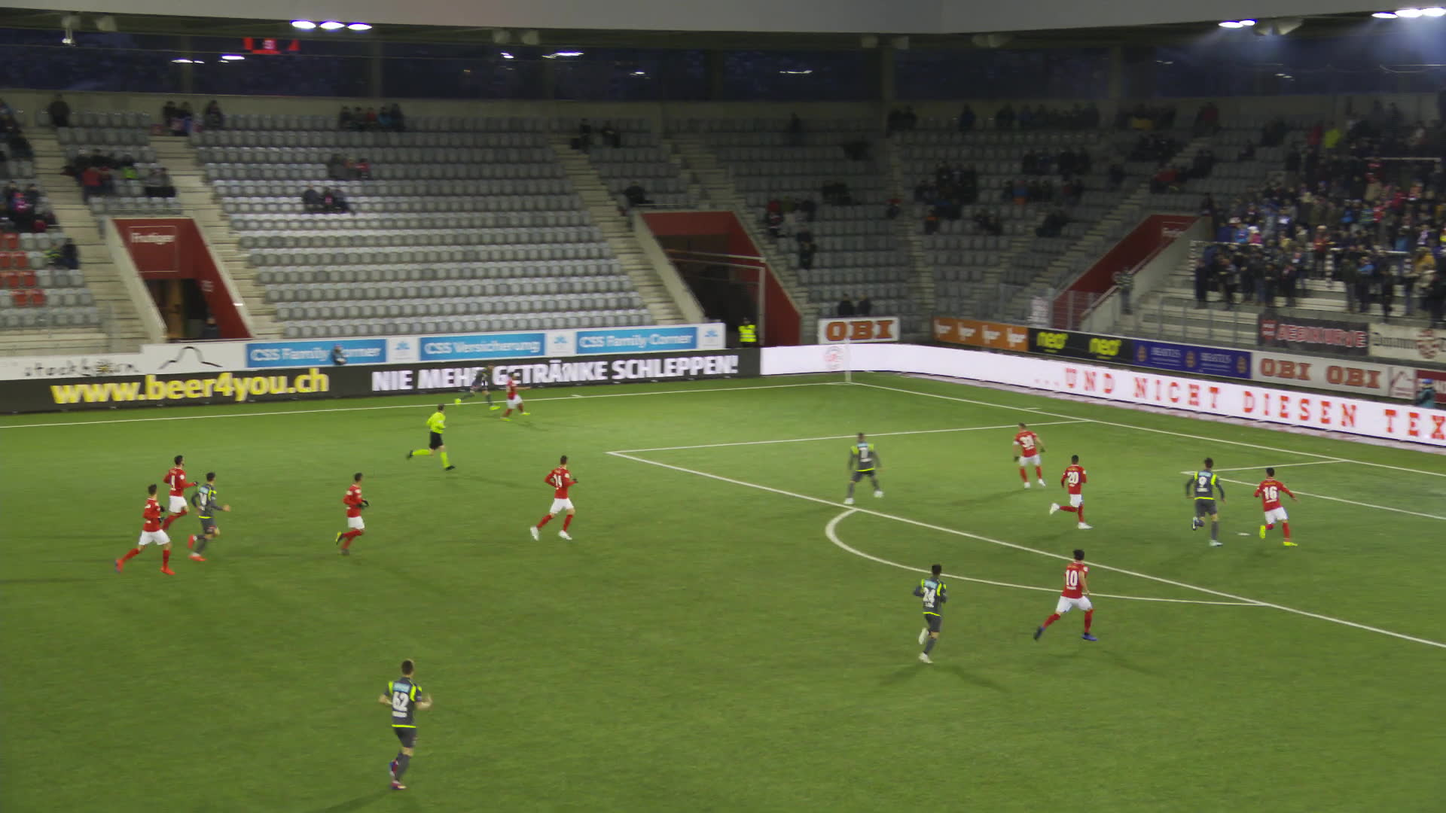ball: (500, 373, 509, 383)
player: (374, 656, 434, 789), (114, 484, 190, 577), (1038, 549, 1099, 643), (179, 468, 233, 562), (530, 455, 584, 541), (907, 561, 951, 663), (1182, 456, 1228, 549), (149, 454, 200, 532), (327, 472, 374, 555), (1252, 465, 1298, 547), (846, 427, 890, 505), (1051, 452, 1087, 529), (1011, 421, 1051, 490), (456, 361, 499, 414), (496, 372, 530, 422)
referee: (414, 403, 456, 473)
